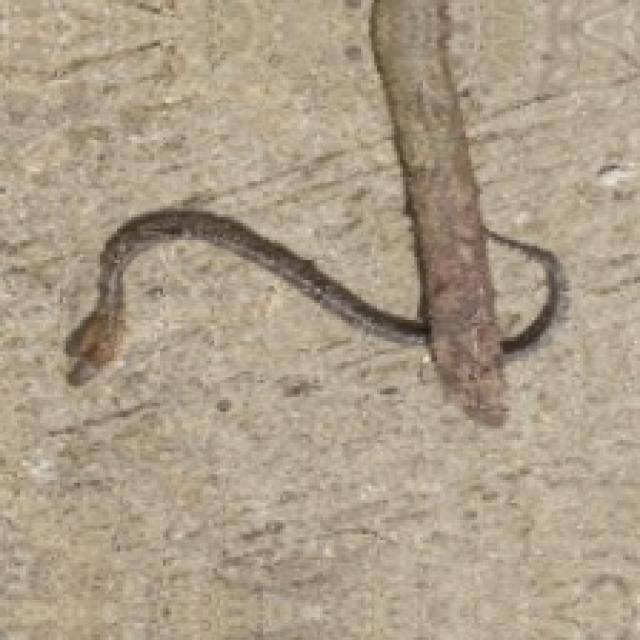philippine cobra: (66, 0, 563, 423), (483, 237, 549, 337)
